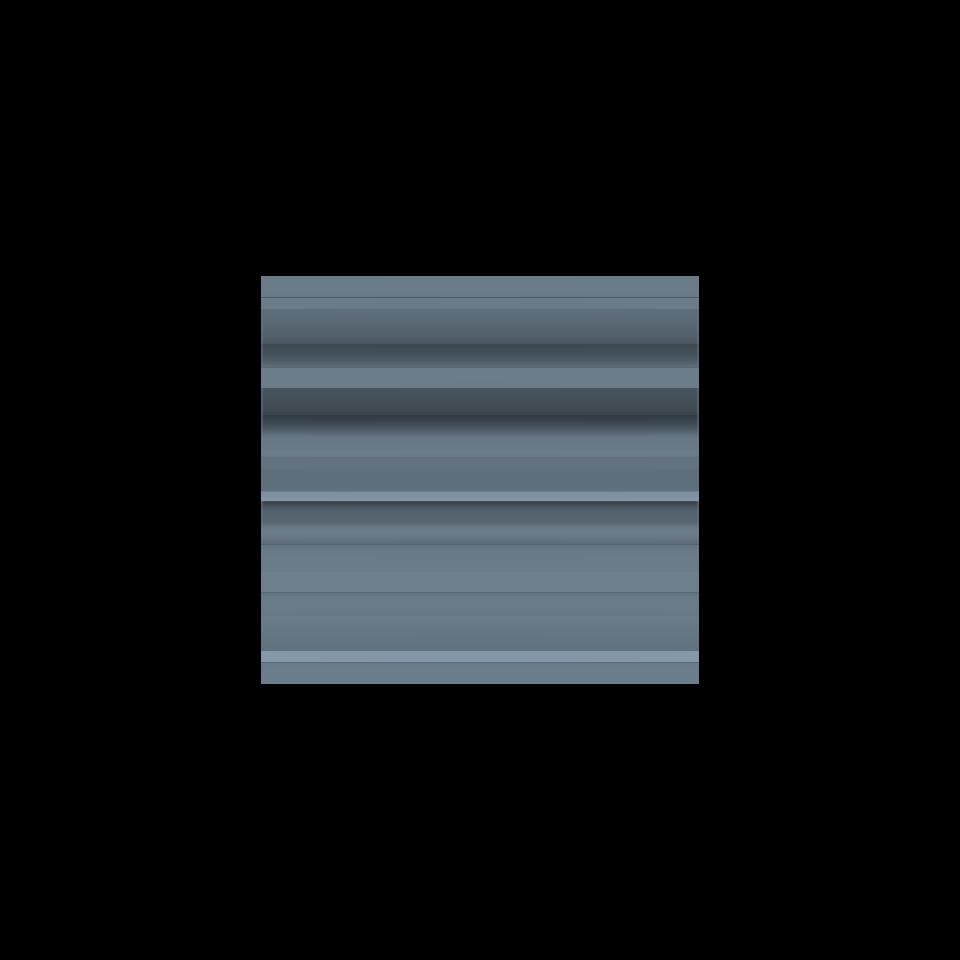Straight: (260, 277, 698, 684)
